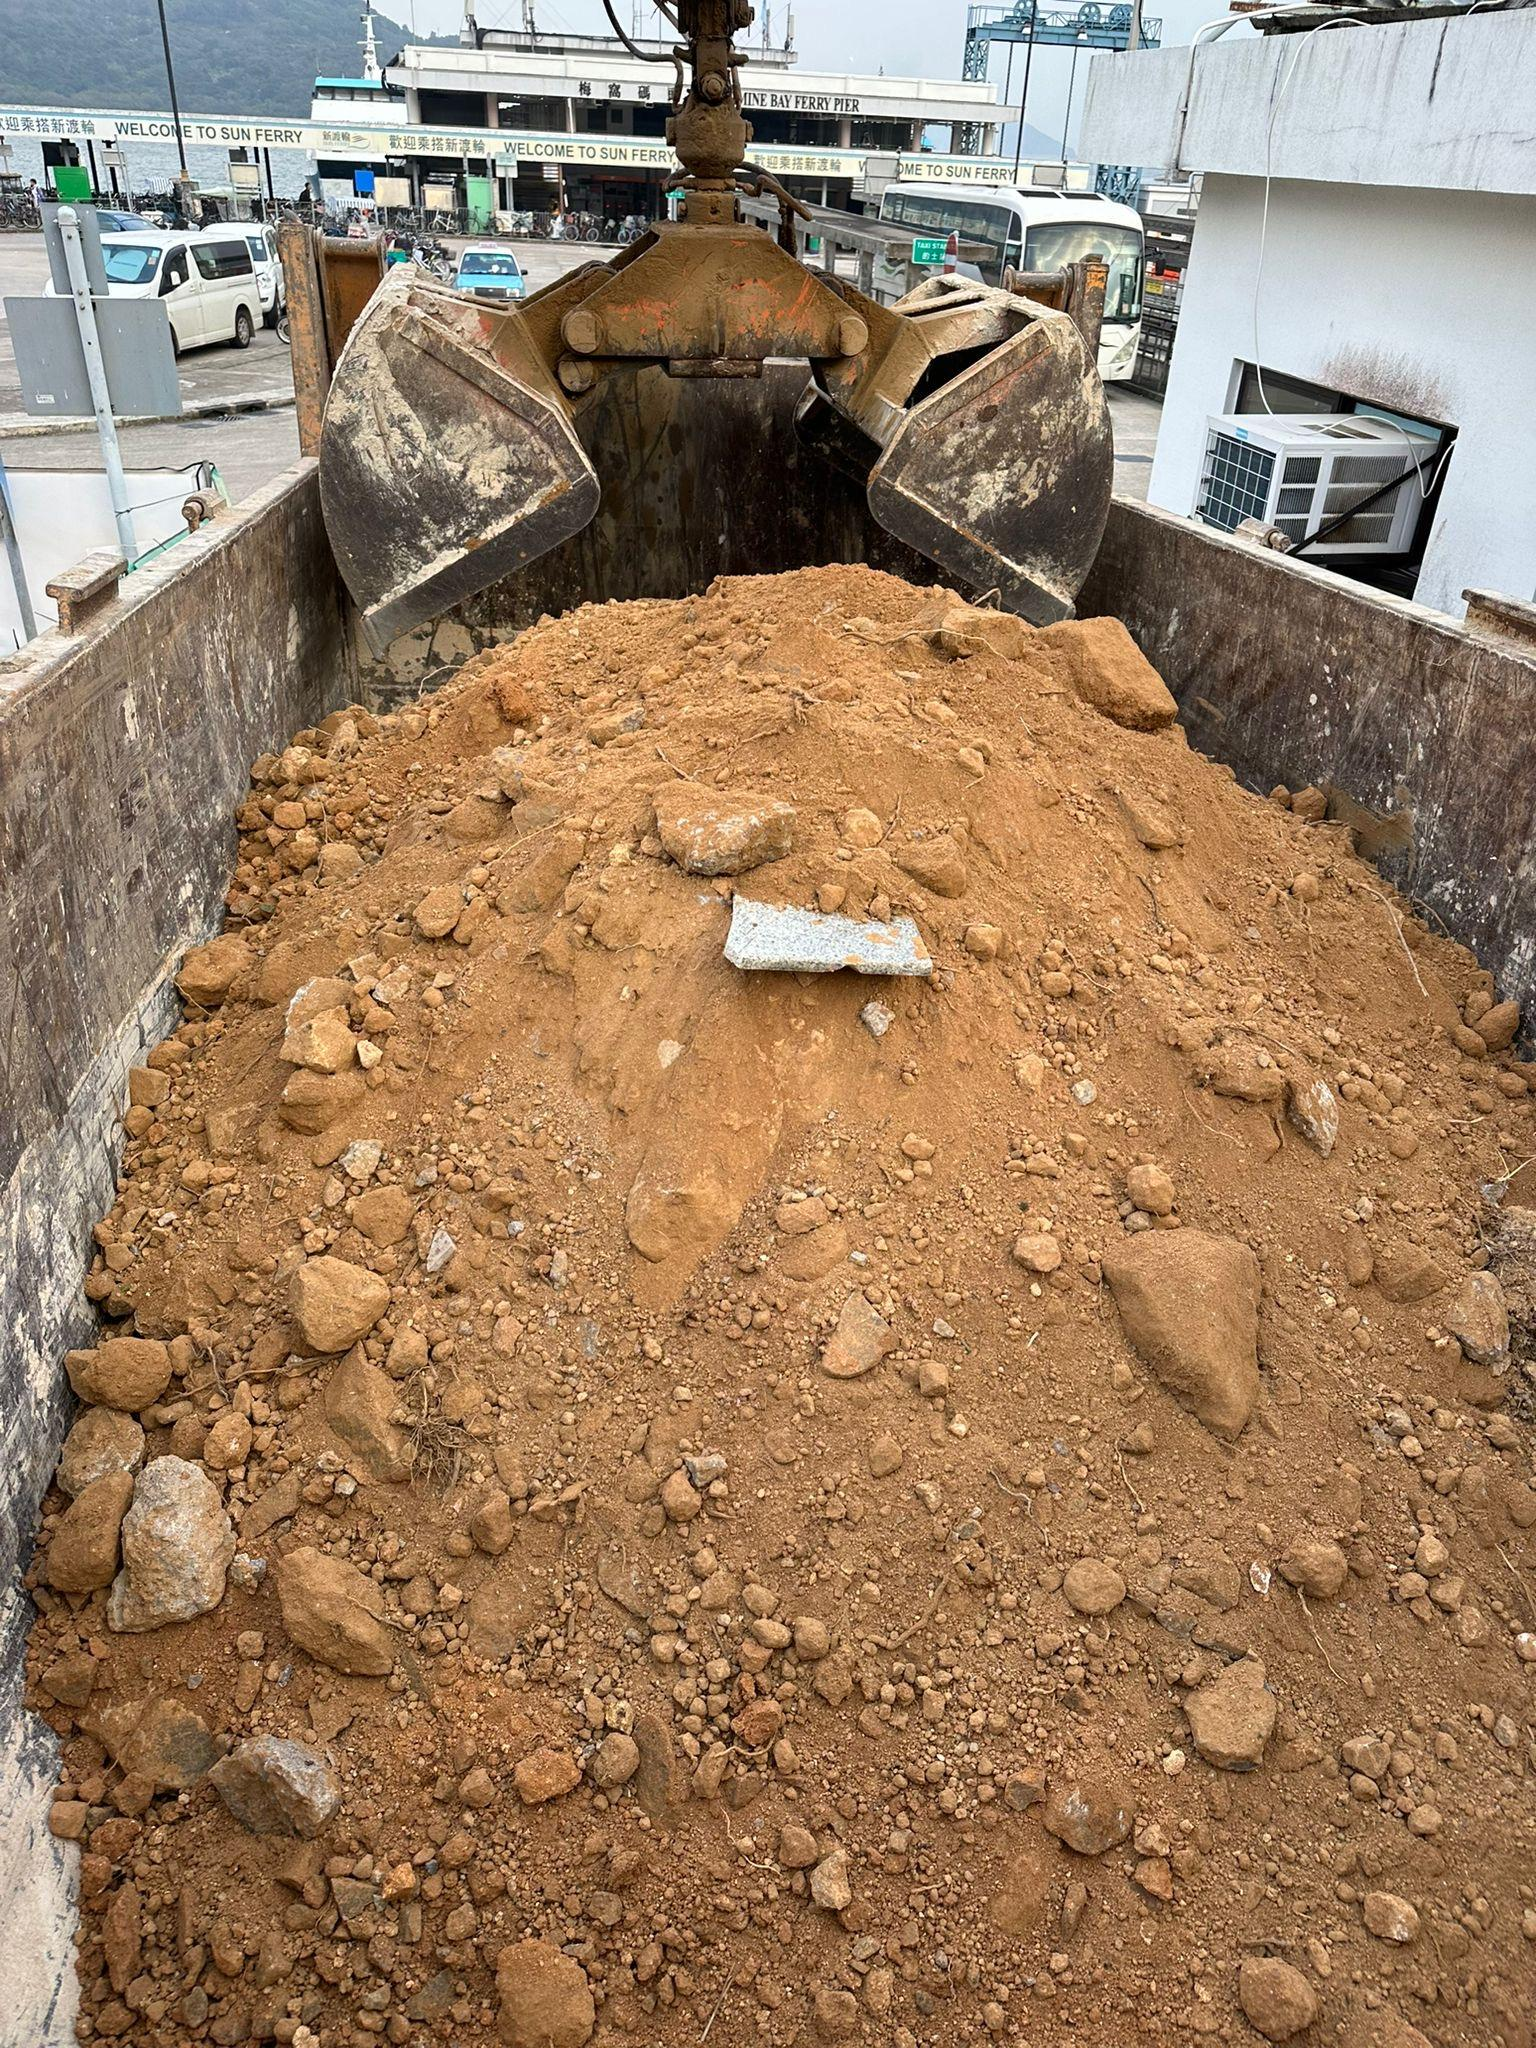dirt: (19, 556, 1533, 2045)
stone: (1099, 1224, 1262, 1435), (105, 1451, 236, 1632), (721, 893, 933, 976), (273, 1545, 397, 1675), (652, 777, 797, 876), (207, 1734, 340, 1838), (89, 1692, 216, 1790), (44, 1467, 132, 1593), (494, 1937, 595, 2045), (1181, 1658, 1278, 1771), (290, 1255, 389, 1351), (61, 1334, 173, 1409), (1439, 1268, 1510, 1369), (1236, 1953, 1318, 2038), (1041, 1779, 1131, 1854), (820, 1292, 895, 1376), (1275, 1534, 1347, 1596), (511, 1748, 579, 1803), (1062, 1556, 1125, 1614), (1362, 1888, 1420, 1942)
